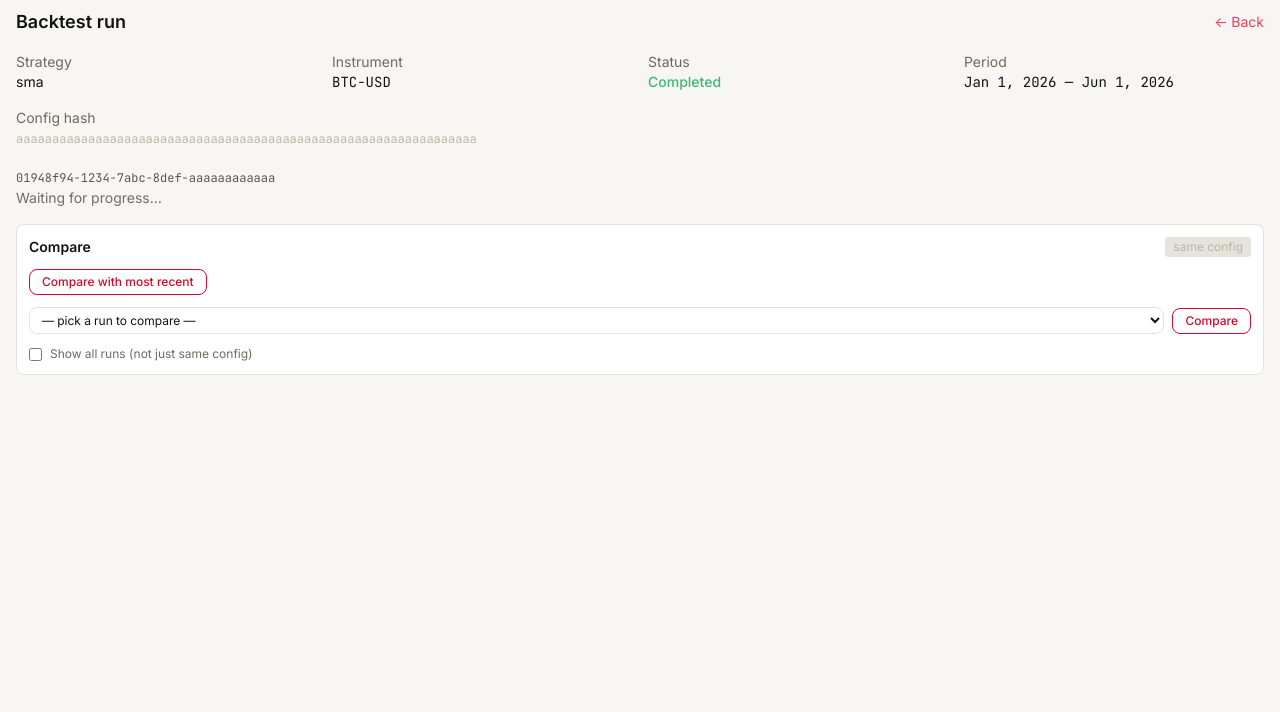
Scenario: Compare flow integration › list → detail → auto-pair → compare page
The image size is (1280, 712).
Click the button with test id "compare-auto-pair" at (118, 282), box [29,269,207,295]
(page scrolled)
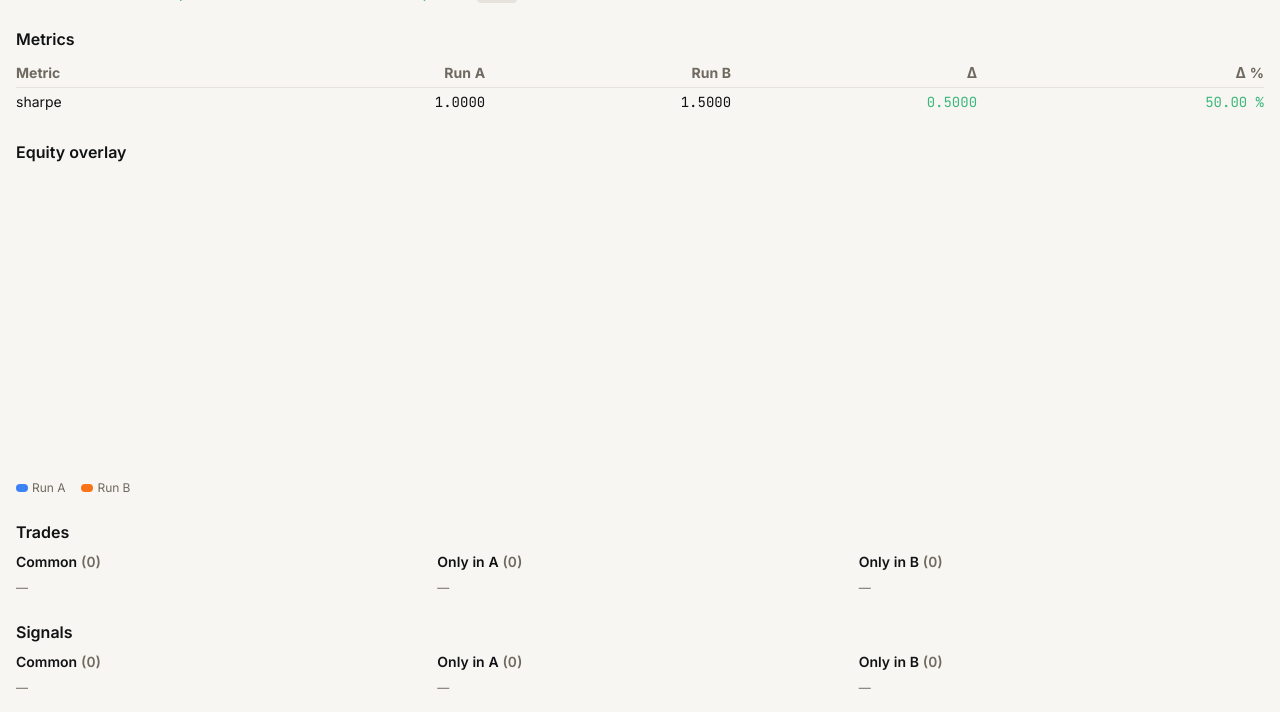
Check: the table with test id "metrics-diff-table" is shown, box [16,59,1264,116]
Check: the element with test id "equity-overlay-chart" is shown, box [16,480,130,495]
Check: the element with test id "trades-diff-list" is shown, box [16,553,943,595]
